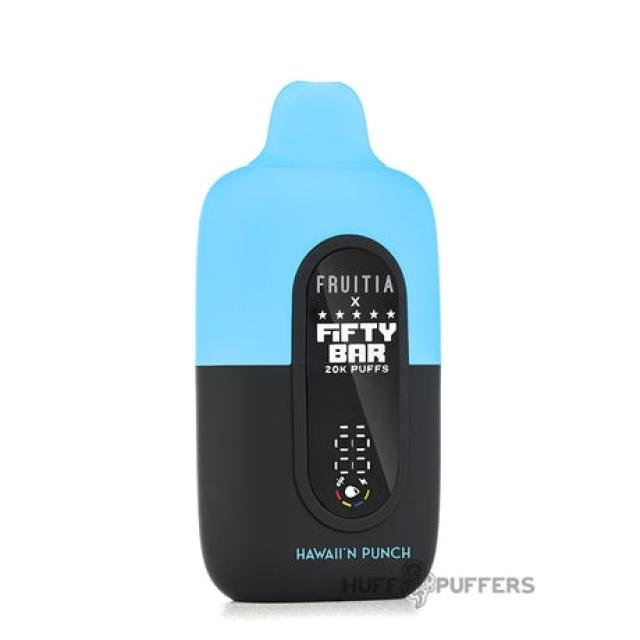Vapes: (194, 78, 442, 602)
